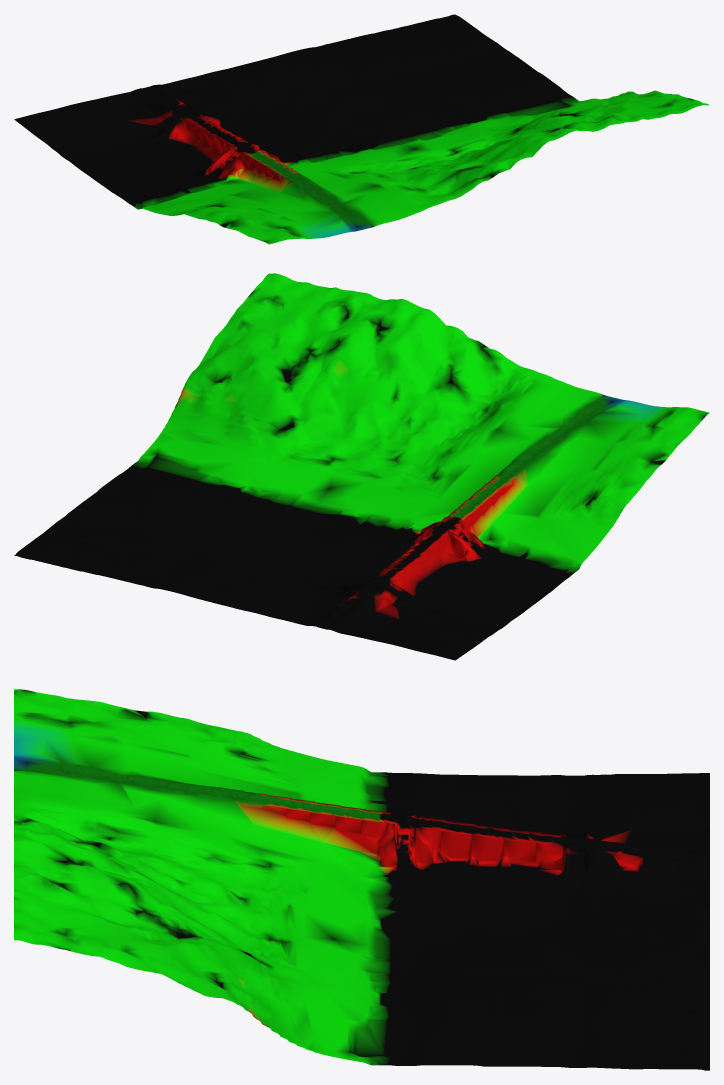
The picture shows the model from 3 angles, top to bottom: view 1: azimuth 30°, elevation 25°; view 2: azimuth 150°, elevation 25°; view 3: azimuth 270°, elevation 25°; orthographic projection. The views are drawn at different scales.
Visible parts, largest first — view 1: N_0_2; view 2: N_0_2; view 3: N_0_2.
Boxes of the visible parts, x1,y1,x2,y2 form: N_0_2: (14,14,709,244); N_0_2: (14,273,709,660); N_0_2: (14,689,709,1070).
Bounding box in the file's own units: 256 × 57.15 × 256.
